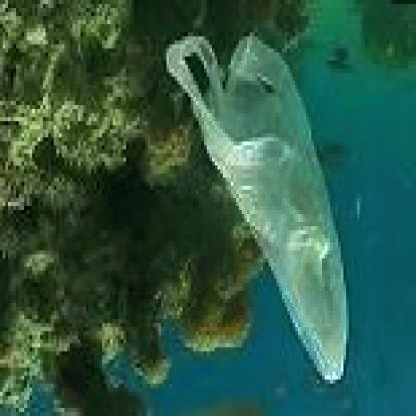plastic: (196, 53, 360, 384)
